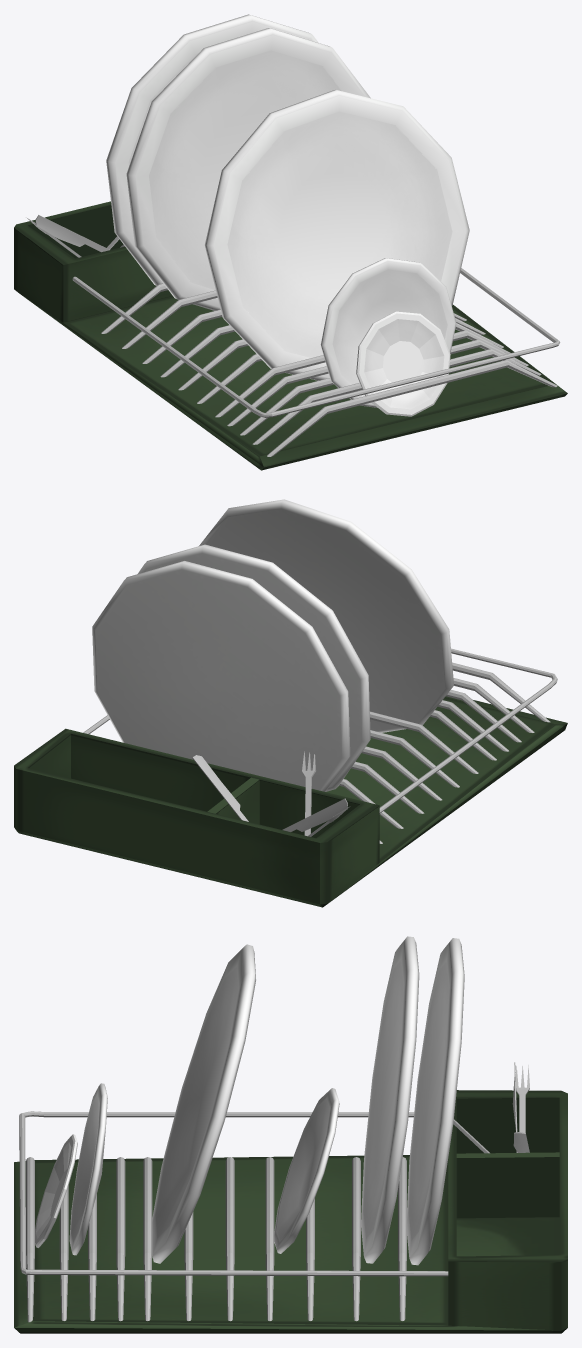
File: Dishrack.fbx
3 renders of one model, top to bottom at view 1: azimuth 30°, elevation 25°; view 2: azimuth 150°, elevation 25°; view 3: azimuth 270°, elevation 25°, orthographic. The views are drawn at different scales.
Visible parts, largest first — view 1: DishRack; view 2: DishRack; view 3: DishRack.
Boxes of the visible parts, x1,y1,x2,y2 form: DishRack: (14, 14, 567, 470); DishRack: (14, 499, 567, 907); DishRack: (14, 936, 567, 1333).
Size of the model in its own units: 4.98 by 4.02 by 6.74.
